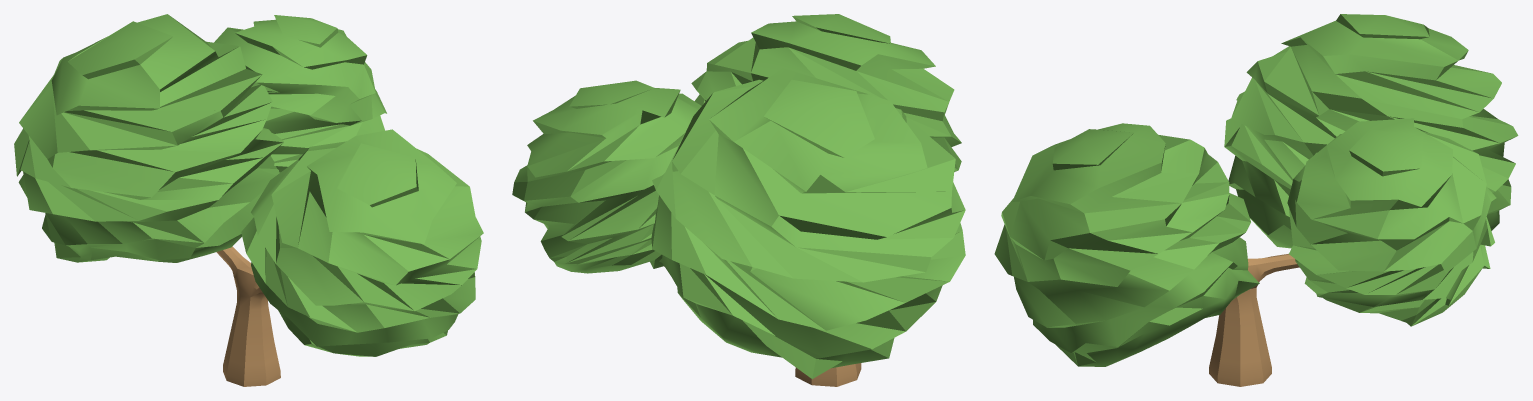
Rendered from bush.glb.
3 views of the same model, side by side, from view 1: azimuth 30°, elevation 25°; view 2: azimuth 150°, elevation 25°; view 3: azimuth 270°, elevation 25° (orthographic). The views are drawn at different scales.
Parts seen in each view (by area): view 1: Small tree; view 2: Small tree; view 3: Small tree.
Boxes of the visible parts, x1,y1,x2,y2 form: Small tree: (14, 14, 483, 386); Small tree: (512, 14, 965, 386); Small tree: (994, 14, 1518, 386).
Size of the model in its own units: 2.72 by 2.23 by 3.21.
